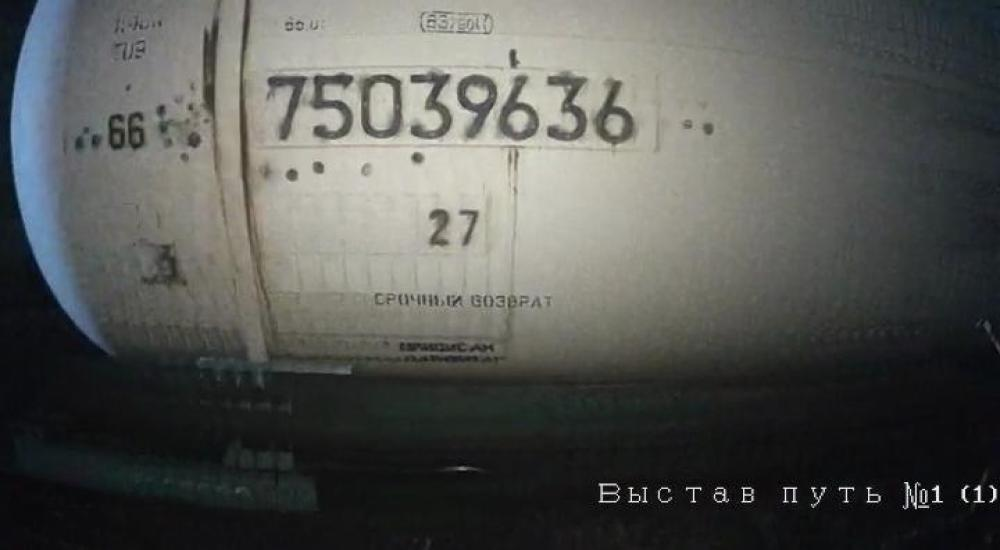Wagon-number: (266, 68, 639, 153)
